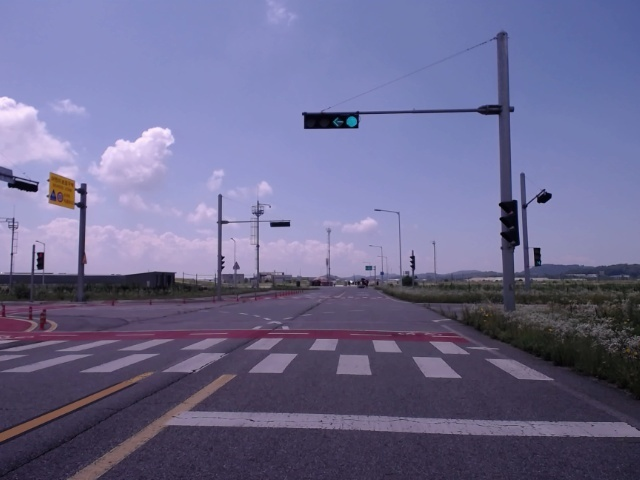all_green_4: (302, 111, 361, 127)
